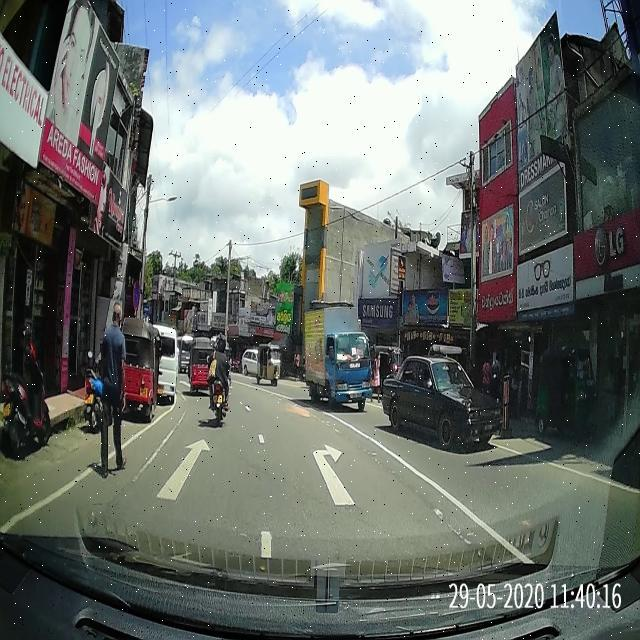forward: (74, 426, 271, 535)
